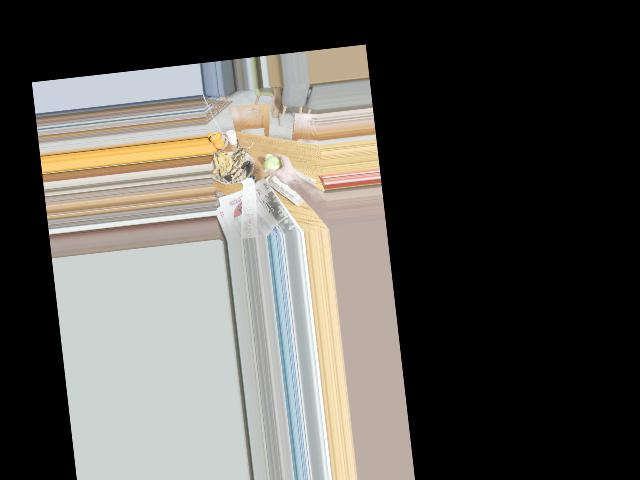apple: (262, 152, 286, 175)
